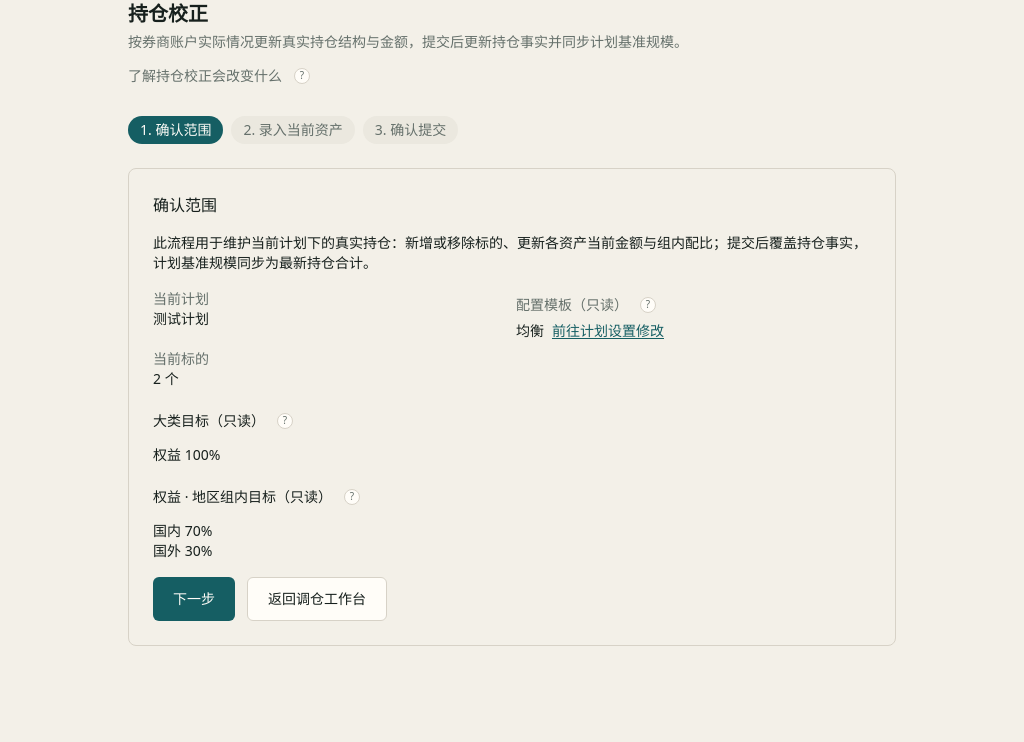
Test case: AssetRefreshPage › shows structure-only message when totals match on confirm step
Click the button "下一步" at (194, 599), box [153,577,235,621]
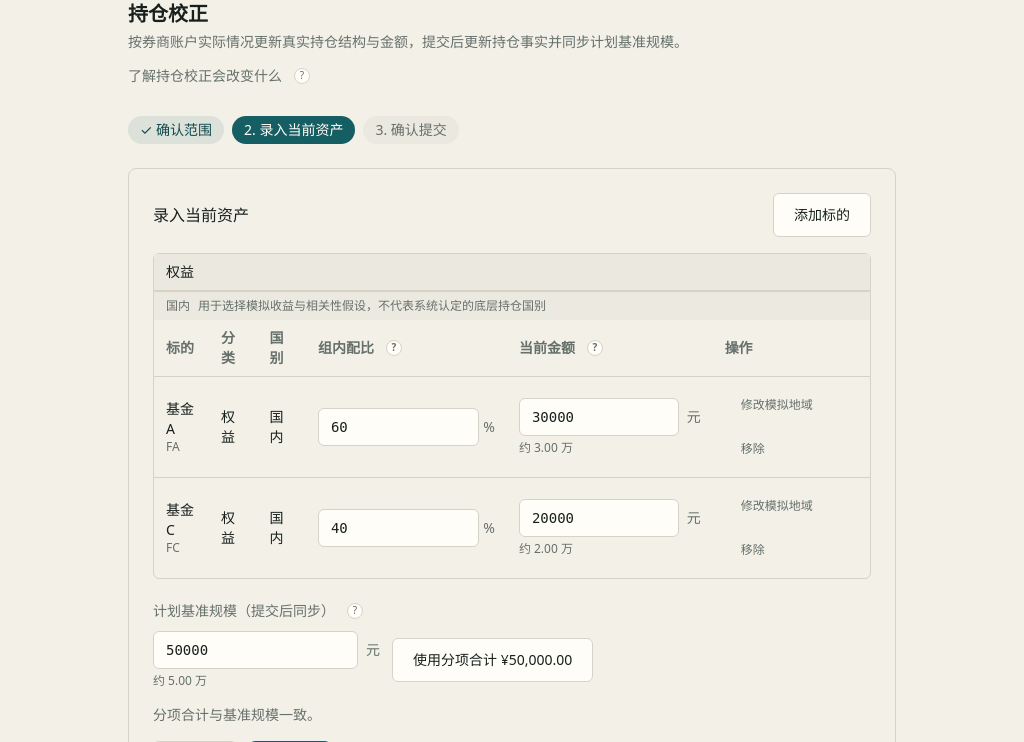
Check: the heading "录入当前资产" is shown, box [153,203,249,227]
Replace the text in the field with test id "percent-input" in the row of "基金A" with "70" at (399, 427), box [318,408,479,446]
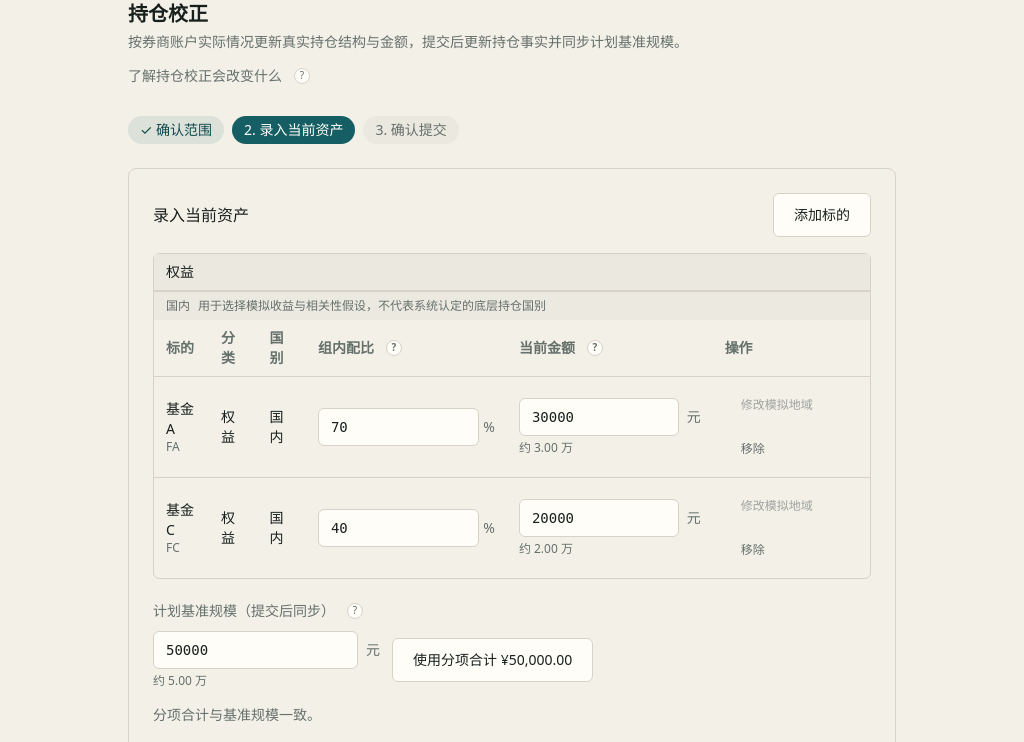
Replace the text in the field with test id "percent-input" in the row of "基金C" with "30" at (399, 528), box [318,509,479,547]
(page scrolled)
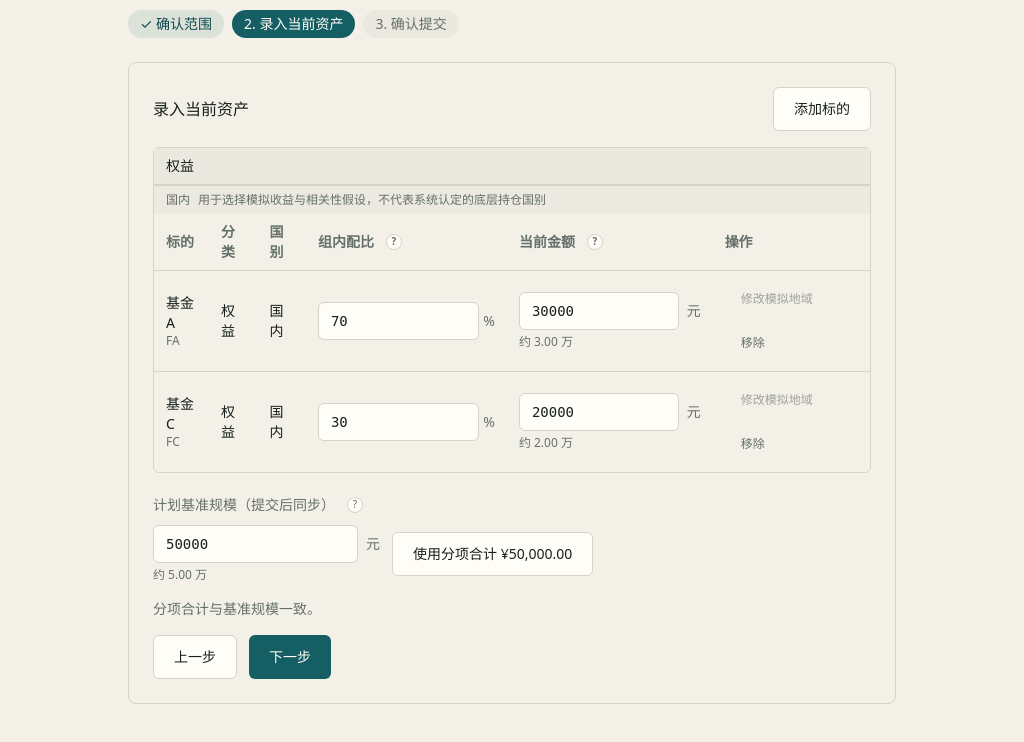
Click the button "下一步" at (290, 657), box [249,635,331,679]
(page scrolled)
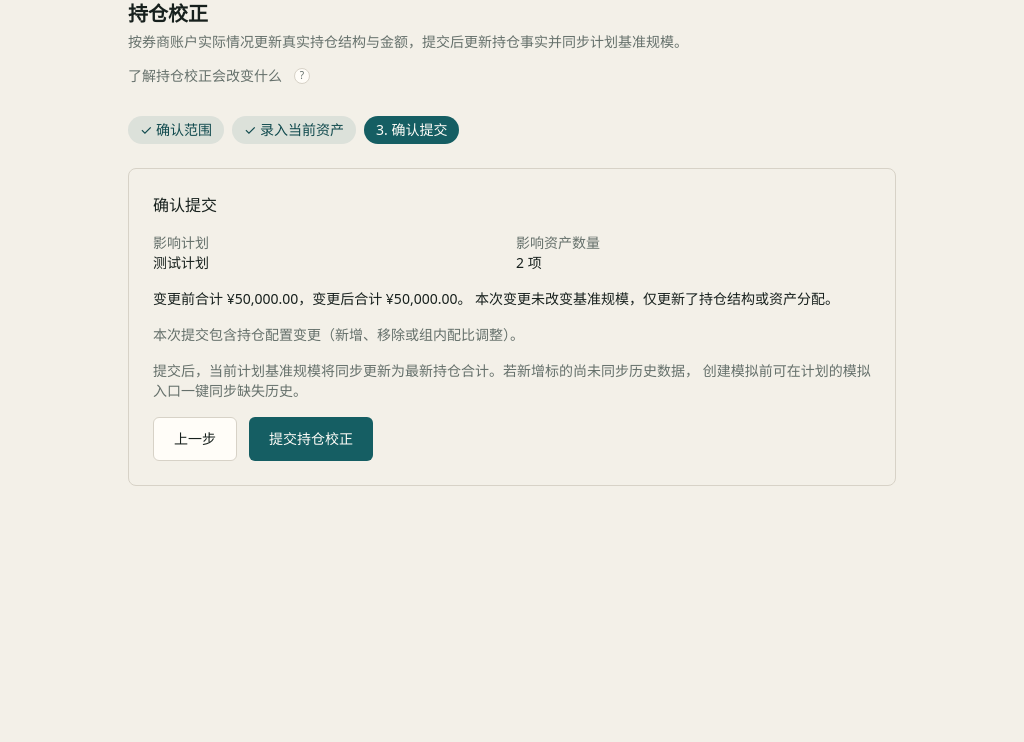
Check: the text "仅更新了持仓结构或资产分配" is shown, box [457,289,839,308]
